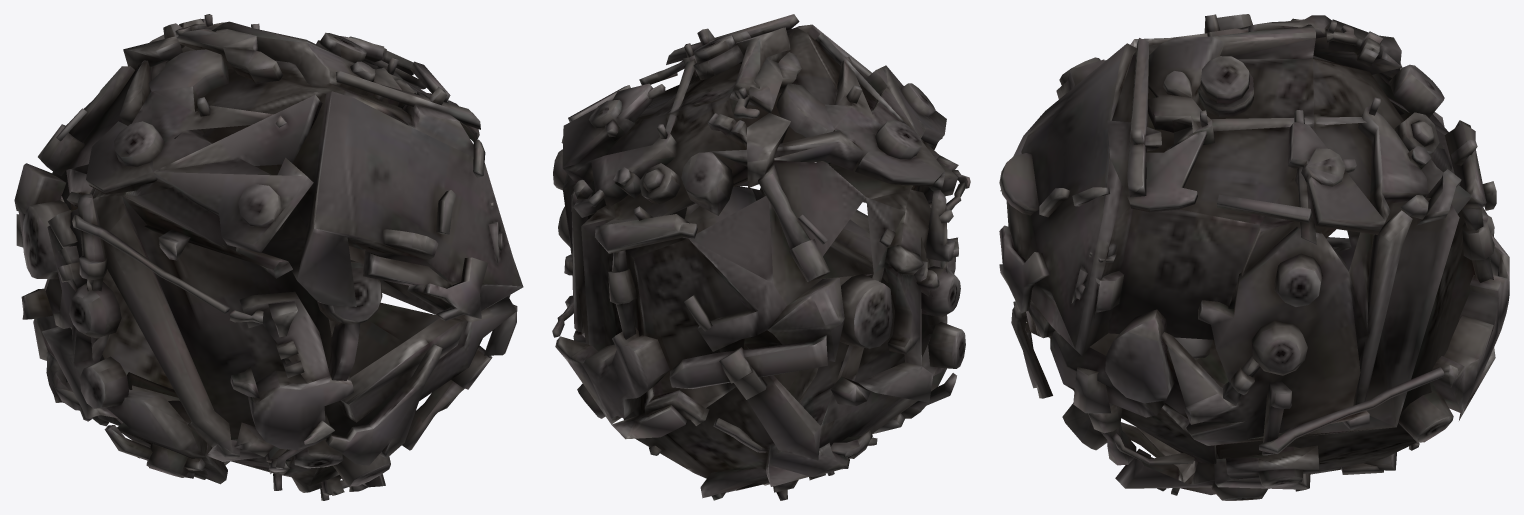
The model's file is arsenal-cluster.glb.
The picture shows the model from 3 angles, left to right: view 1: azimuth 30°, elevation 25°; view 2: azimuth 150°, elevation 25°; view 3: azimuth 270°, elevation 25°; orthographic projection. The views are drawn at different scales.
Parts seen in each view (by area): view 1: Violet Tool Core; view 2: Violet Tool Core; view 3: Violet Tool Core.
Part boxes in pixels (x1,y1,x2,y2): Violet Tool Core: (14,14,523,500); Violet Tool Core: (552,14,970,500); Violet Tool Core: (999,14,1509,500).
Bounding box in the file's own units: 0.9395 × 0.998 × 0.998.
1 material, 1 textured.
